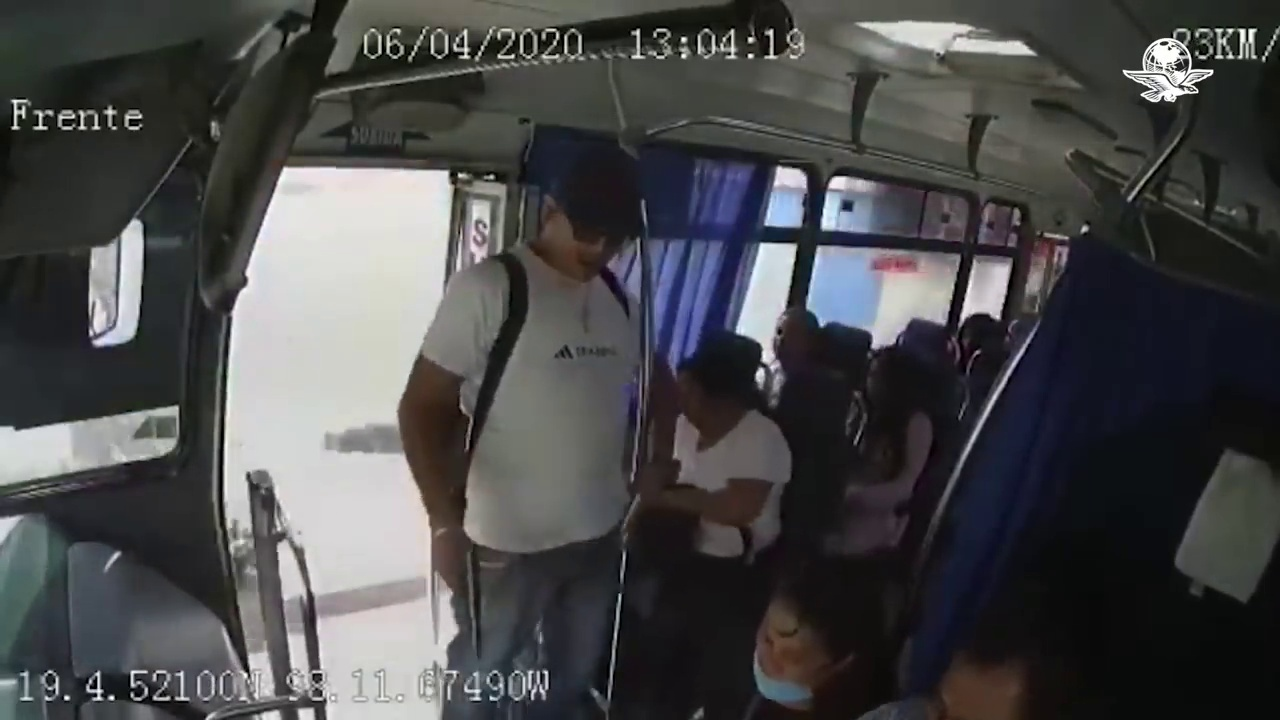pistol: (452, 541, 489, 664)
